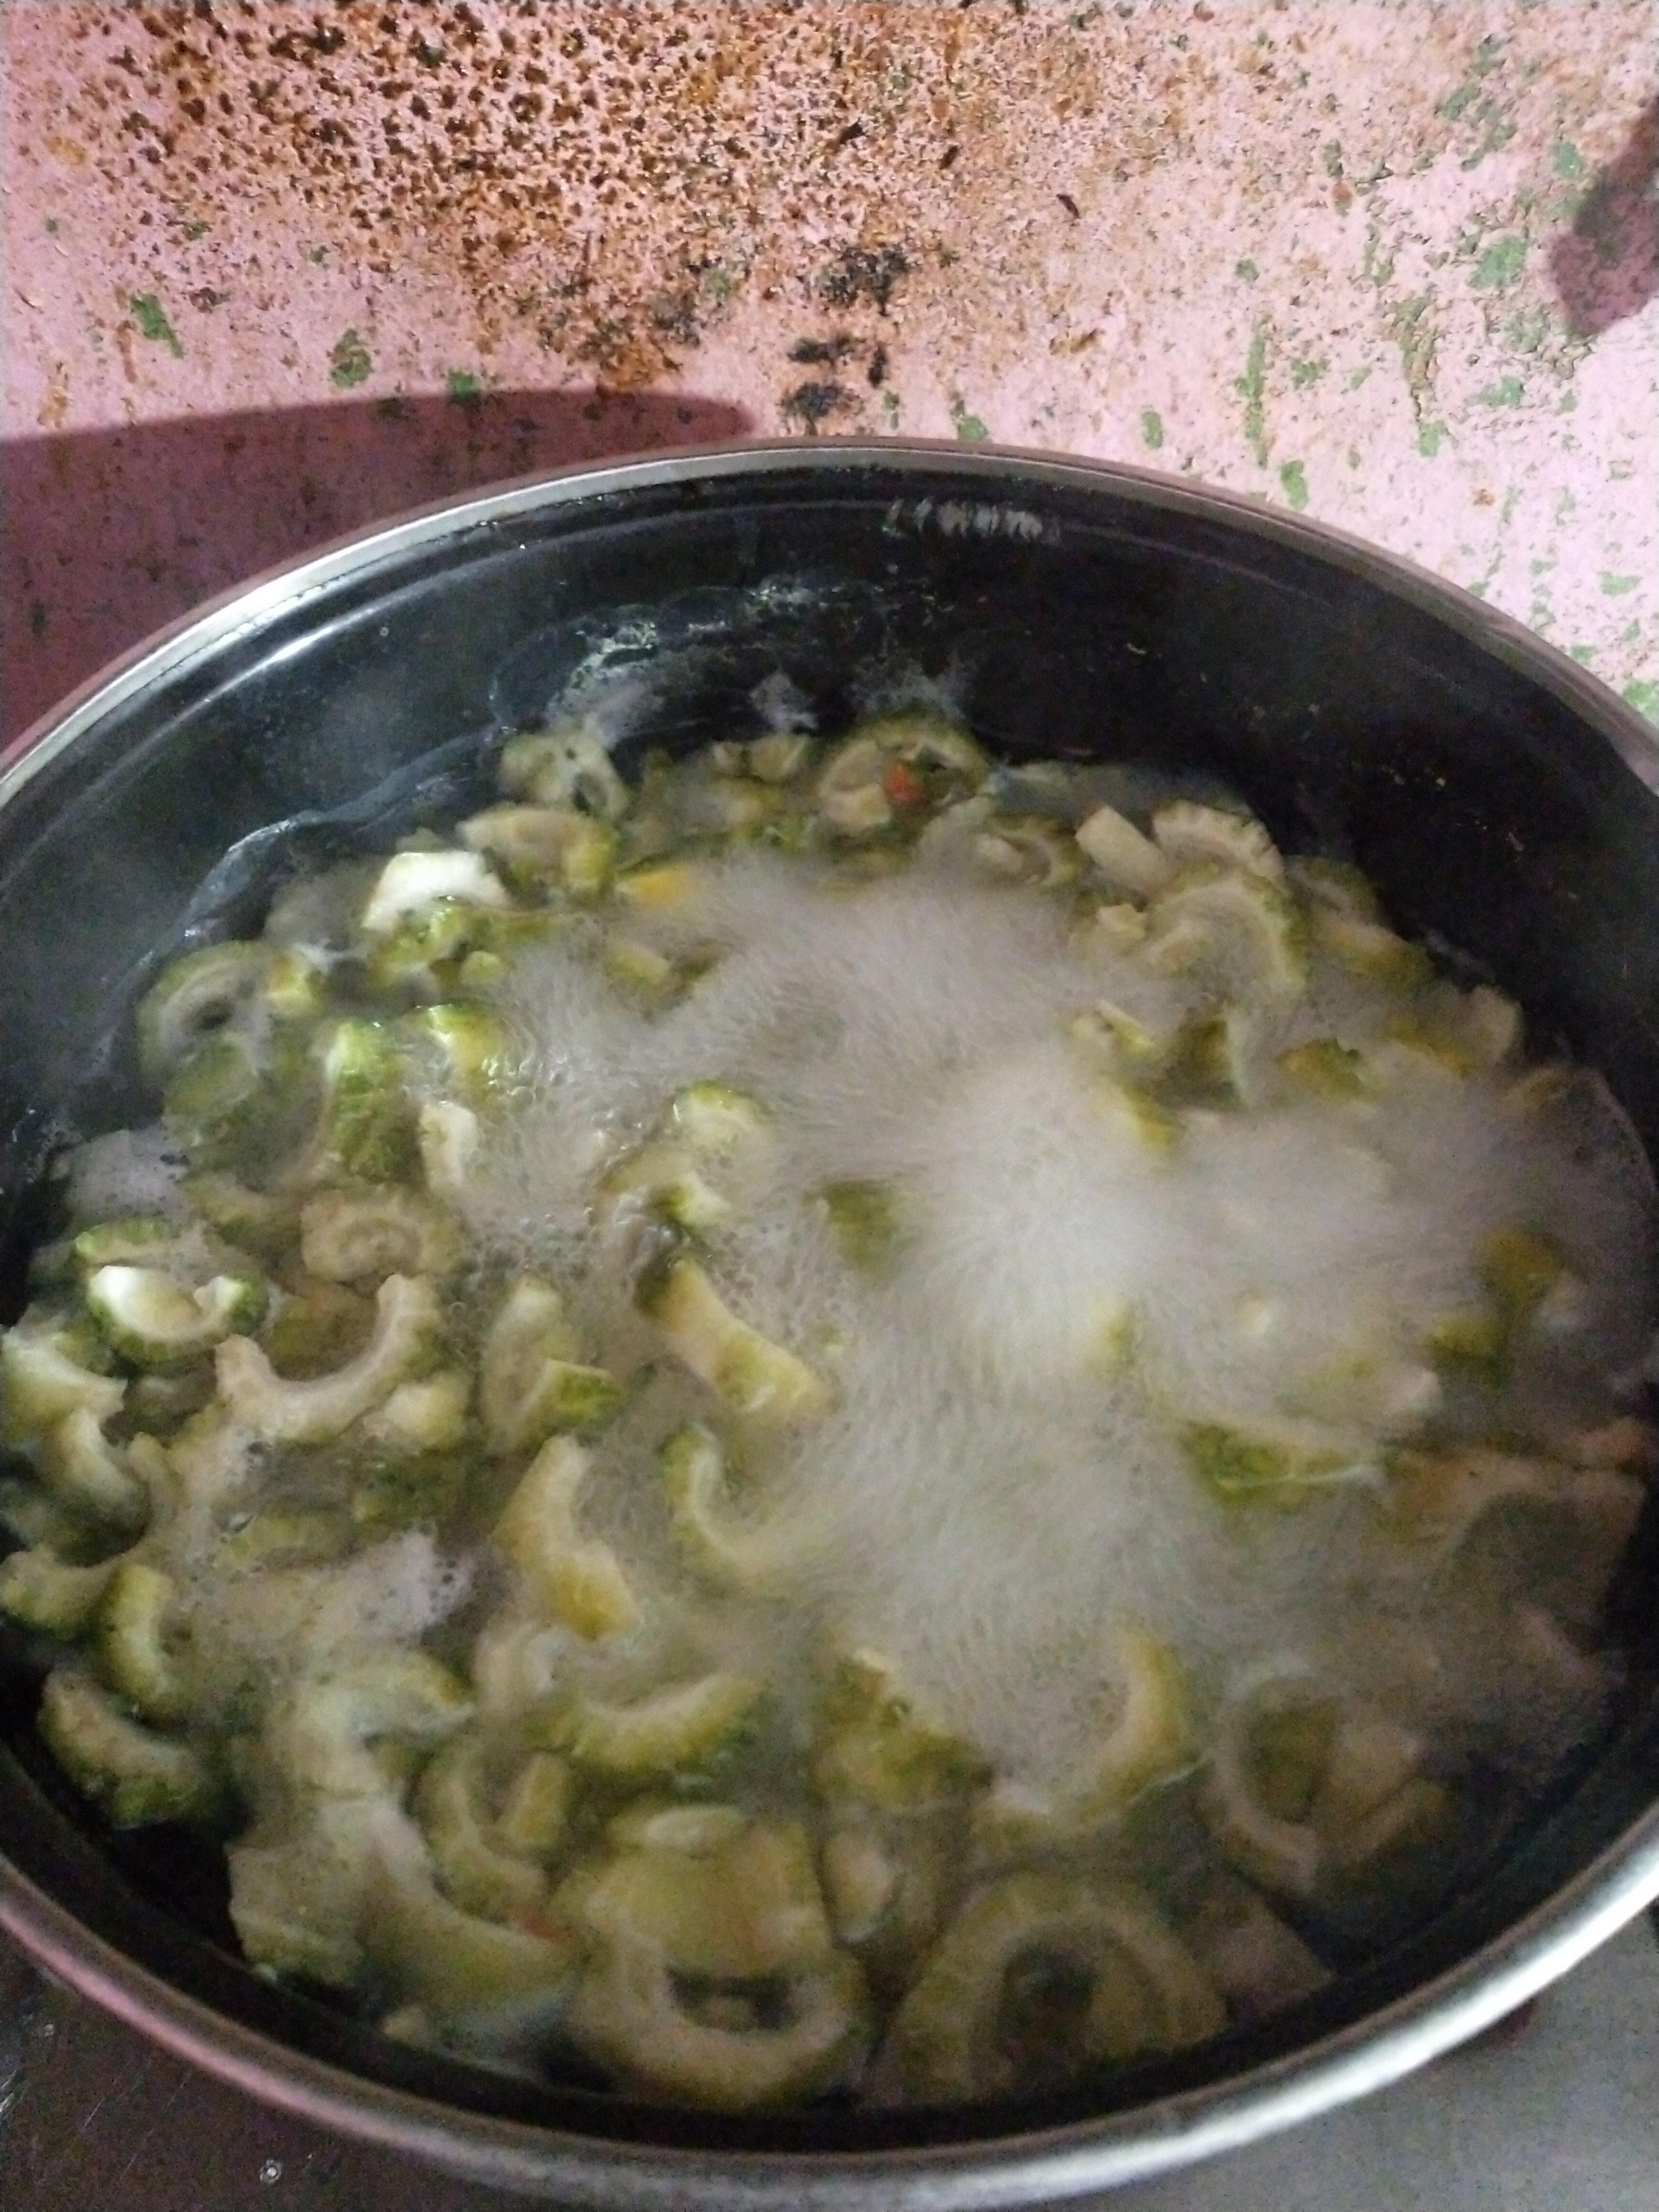food: (0, 650, 1657, 2155)
